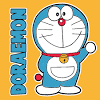doraemon: (31, 2, 97, 97)
